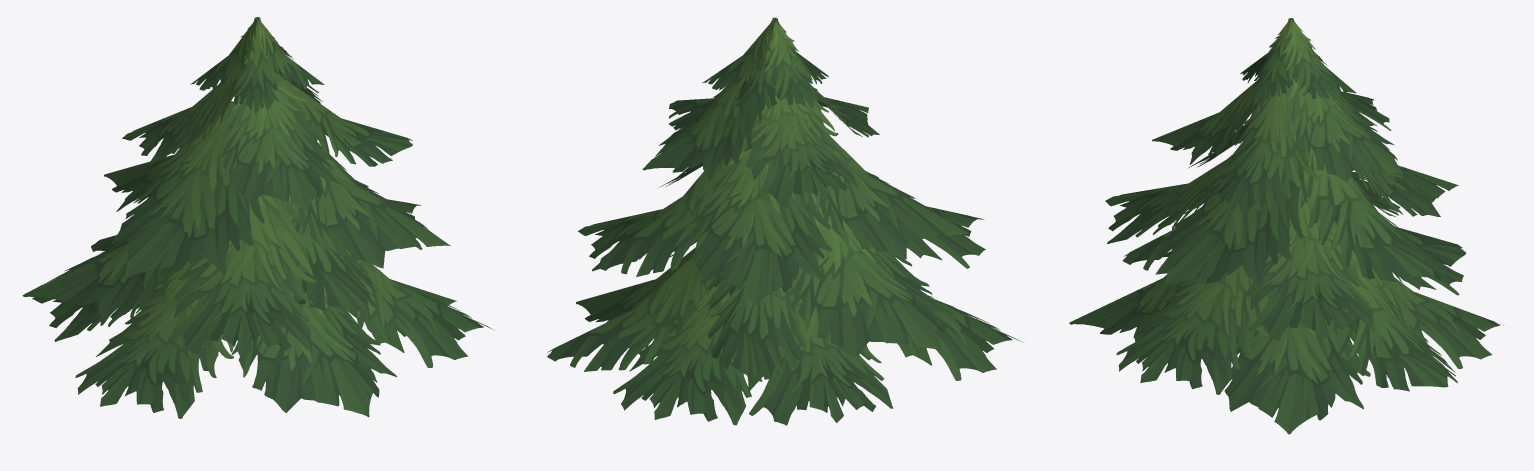
Rendered from Na_Leaf_02.FBX.
3 renders of one model, left to right at view 1: azimuth 30°, elevation 25°; view 2: azimuth 150°, elevation 25°; view 3: azimuth 270°, elevation 25°, orthographic. The views are drawn at different scales.
Parts seen in each view (by area): view 1: Na_Leaf_02; view 2: Na_Leaf_02; view 3: Na_Leaf_02.
Boxes of the visible parts, x1,y1,x2,y2 form: Na_Leaf_02: [22, 17, 493, 418]; Na_Leaf_02: [547, 17, 1023, 425]; Na_Leaf_02: [1069, 18, 1500, 434].
Size of the model in its own units: 5.05 by 4.13 by 4.9.
